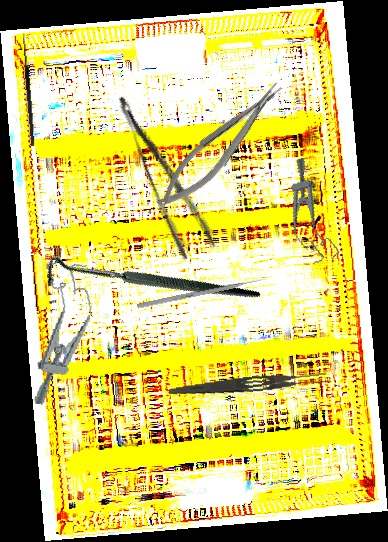Dressing Forceps: (114, 83, 219, 262), (168, 368, 328, 403)
Hook Surgical: (37, 182, 262, 389), (15, 33, 36, 147)
Needle Holder: (146, 76, 295, 218)
Pusher: (136, 276, 269, 309)
Speculum: (23, 254, 100, 411), (274, 155, 342, 268)
